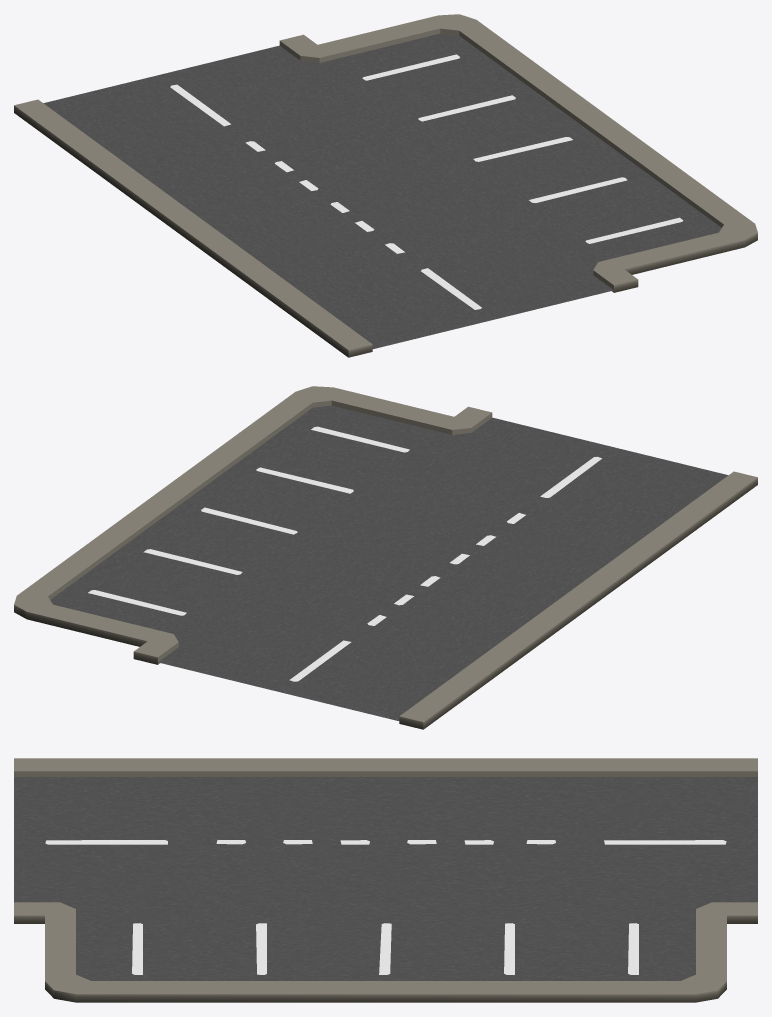
3 renders of one model, top to bottom at view 1: azimuth 30°, elevation 25°; view 2: azimuth 150°, elevation 25°; view 3: azimuth 270°, elevation 25°, orthographic. The views are drawn at different scales.
Parts seen in each view (by area): view 1: Road_1J; view 2: Road_1J; view 3: Road_1J.
Part boxes in pixels (x1,y1,x2,y2): Road_1J: (14,14,757,357); Road_1J: (14,386,757,729); Road_1J: (14,758,757,1002).
Bounding box in the file's own units: 22423 × 374 × 29898.
